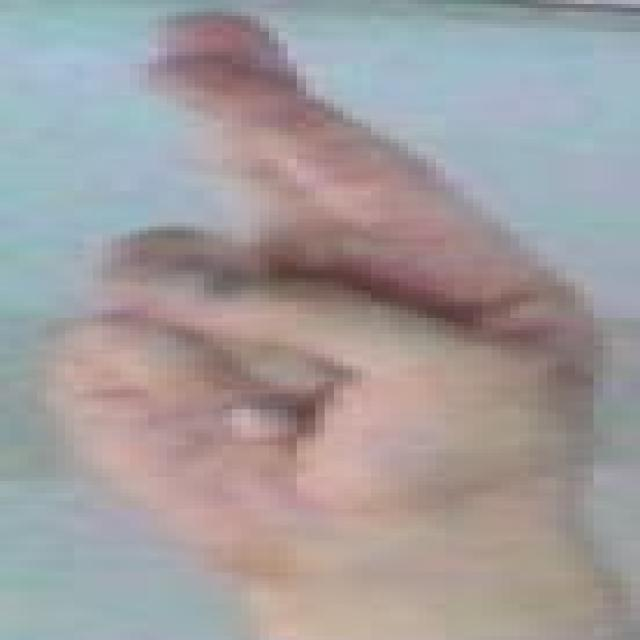R: (0, 5, 640, 573)
